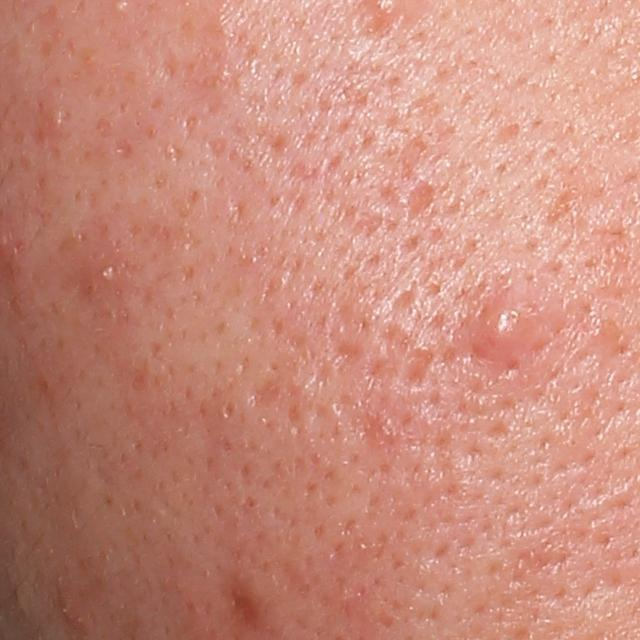atrophic_scar: (217, 577, 264, 633), (392, 346, 437, 397), (244, 377, 286, 411), (405, 178, 434, 225), (329, 340, 366, 366)
papule: (466, 285, 568, 361), (71, 241, 132, 310)
